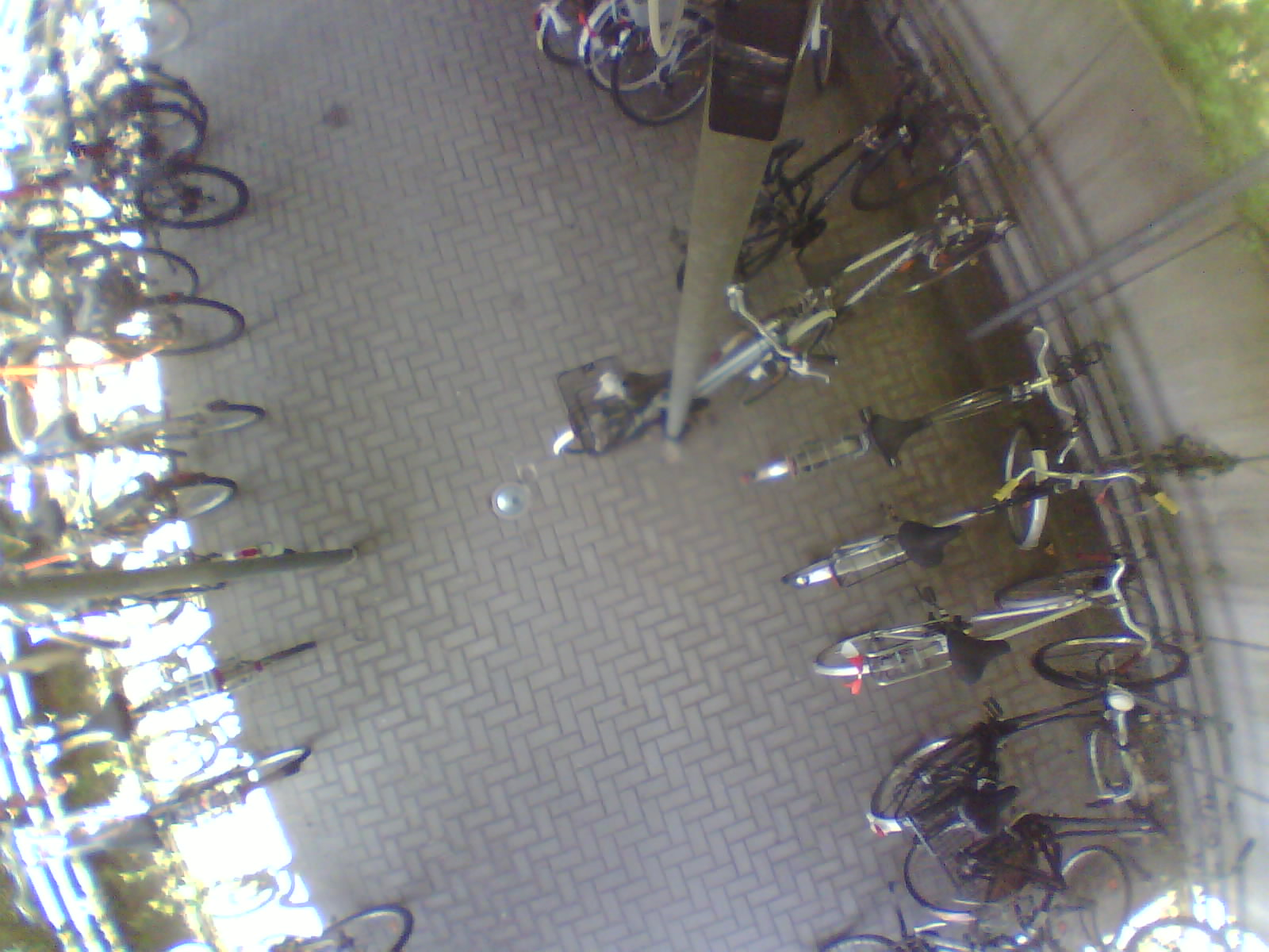bicylce: (787, 431, 1200, 587), (873, 640, 1188, 836), (671, 102, 993, 274), (741, 337, 1107, 483), (729, 197, 1018, 375), (818, 556, 1150, 695), (0, 629, 323, 767), (560, 292, 823, 457), (0, 742, 310, 874), (614, 0, 904, 126), (0, 380, 266, 483), (5, 470, 238, 580), (0, 150, 255, 228), (0, 292, 249, 352)
saddle: (851, 402, 940, 467), (96, 806, 179, 869), (76, 678, 140, 753), (954, 780, 1031, 840), (900, 518, 975, 578), (944, 621, 1013, 684), (27, 394, 85, 467), (12, 495, 73, 550), (22, 123, 99, 160), (756, 136, 811, 180), (799, 250, 858, 290), (30, 302, 75, 353), (629, 361, 675, 407), (3, 238, 46, 269)
